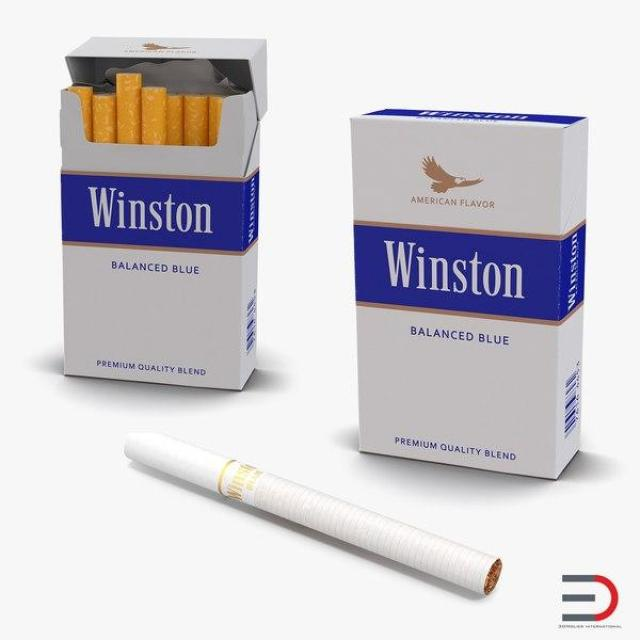cigarette: (124, 433, 503, 596), (117, 72, 141, 144), (180, 95, 209, 149), (142, 87, 166, 144), (68, 87, 92, 141), (92, 93, 117, 144), (166, 94, 181, 145)
